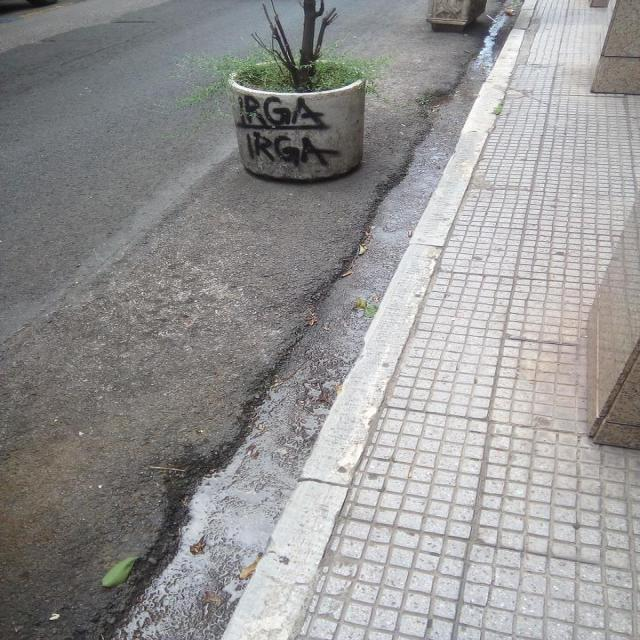nonspitting: (240, 94, 342, 170)
